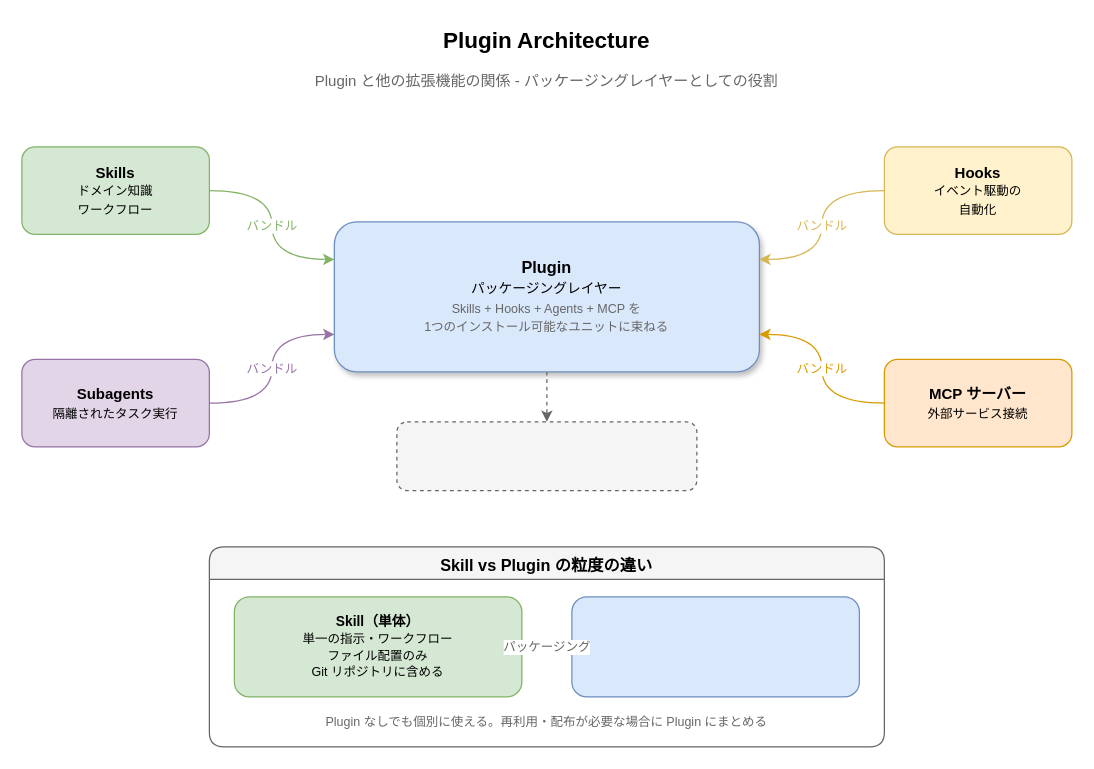
Some shapes in this 1094 by 769 pixel diagram are drawn without their labels. Each missing label, with the centre of its shape:
Plugin（バンドル） Skills + Hooks + Agents + MCP /plugin install コマンド マーケットプレイスで配布: the point at 715,646
名前空間 plugin-name:skill-name で競合を回避: the point at 546,456
